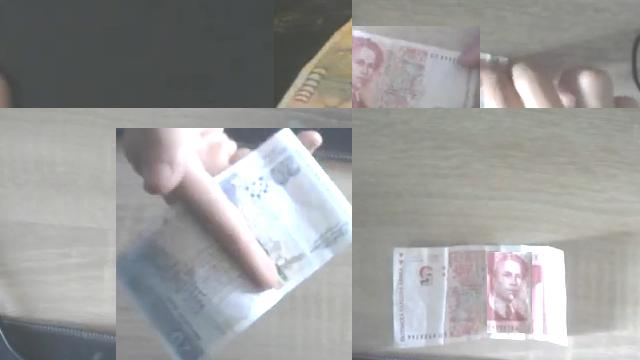20leva: (116, 128, 352, 360)
5leva: (352, 29, 480, 108), (390, 245, 451, 348), (487, 252, 532, 333)
